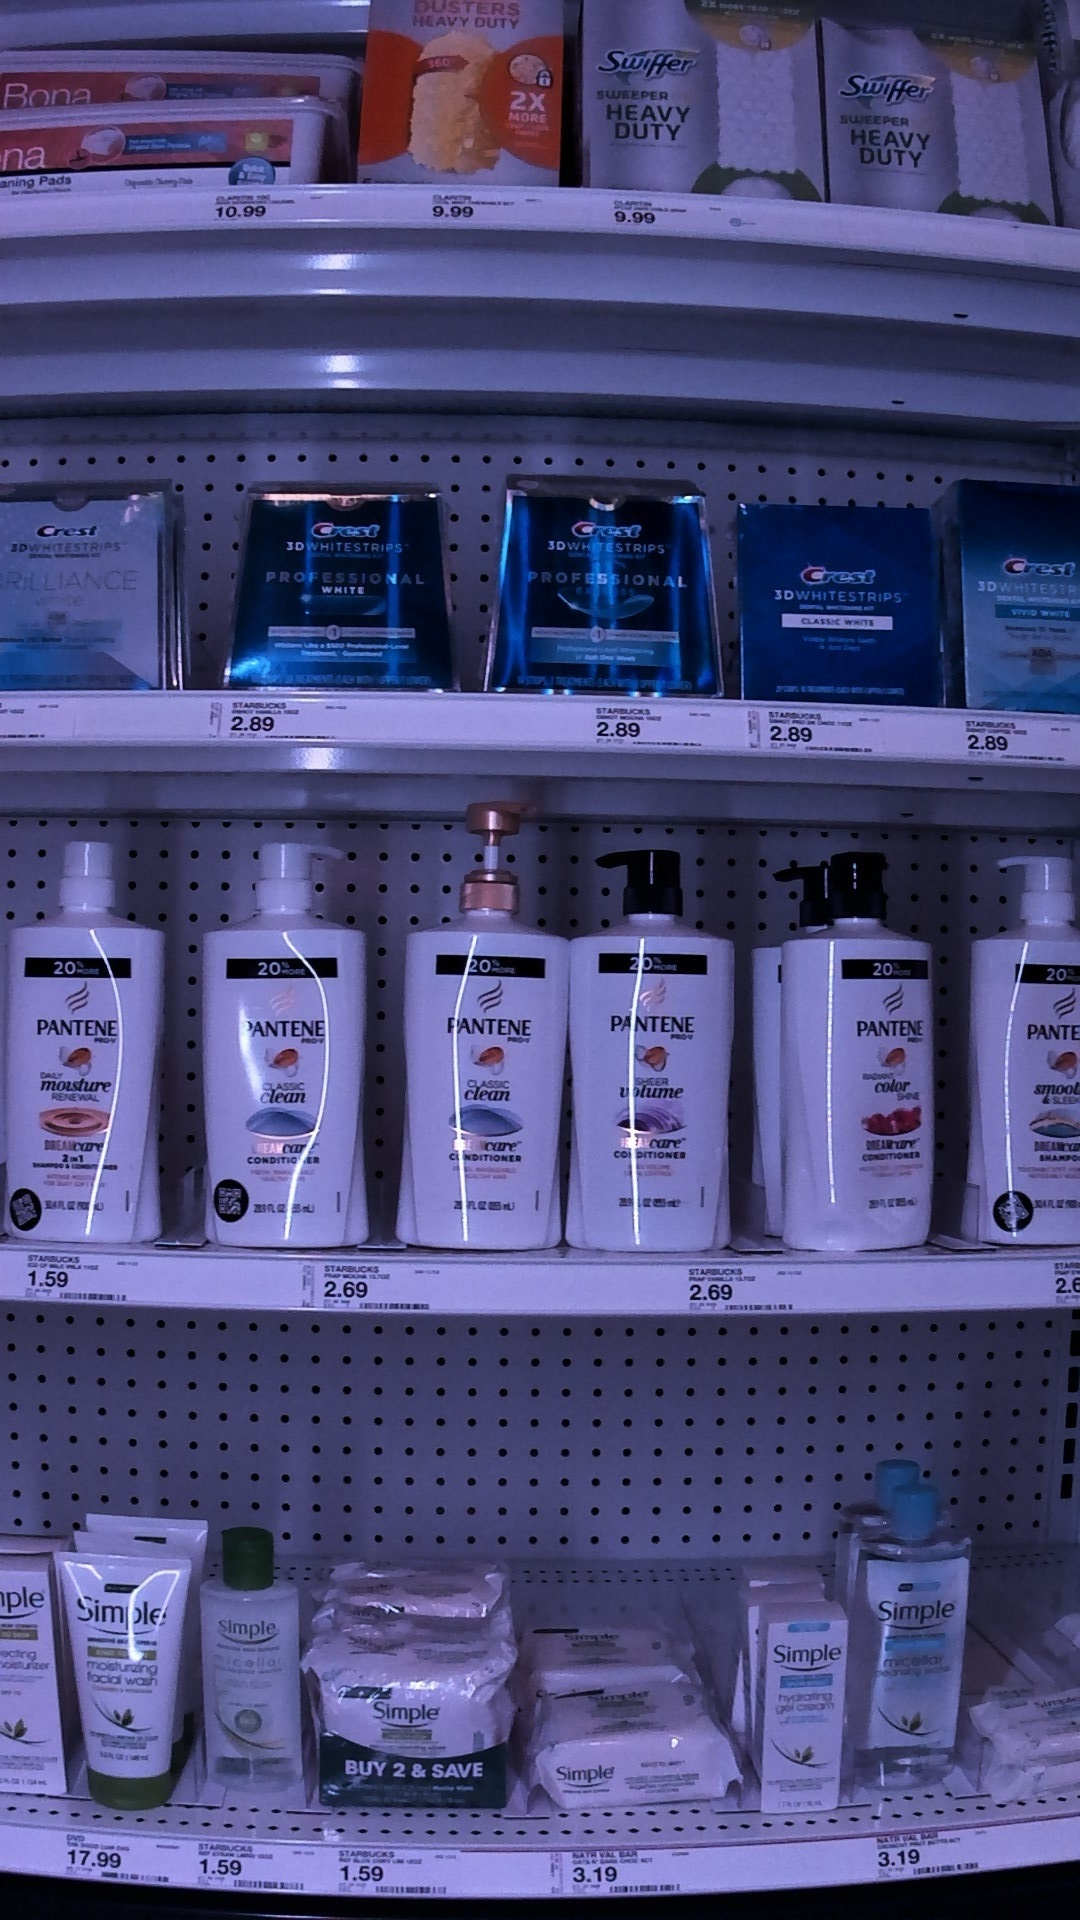ptag: (301, 1262, 454, 1324), (742, 698, 882, 762), (957, 711, 1077, 775), (686, 1261, 815, 1320), (22, 1246, 140, 1311), (580, 700, 715, 756), (553, 1846, 695, 1898), (193, 1840, 311, 1895), (206, 698, 345, 744), (335, 1853, 458, 1904), (47, 1829, 162, 1882), (876, 1833, 996, 1880), (426, 186, 542, 231), (211, 182, 309, 224), (604, 193, 709, 229)
